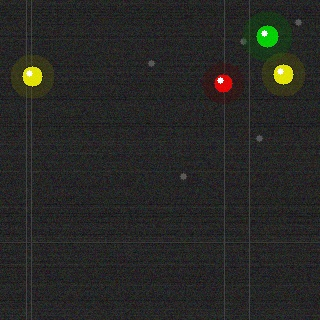green_normal: (254, 23, 280, 49)
red_fault: (212, 72, 234, 94)
yellow_warning: (20, 64, 44, 88), (271, 62, 295, 86)
